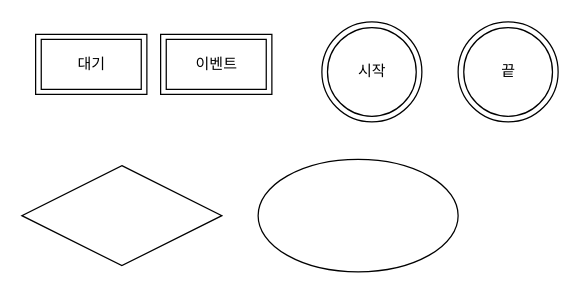
Some shapes in this 580 by 294 pixel diagram are drawn without their labels. The centre of each missing label's shape, as x and y in pixels:
"분기점" goes at pixel 121 215.
"일반 절차" goes at pixel 357 215.
